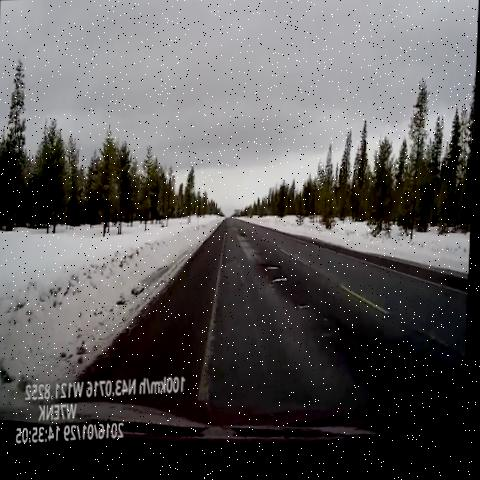pothole: (291, 296, 320, 325), (271, 274, 297, 295), (235, 227, 256, 250), (261, 259, 282, 276)
